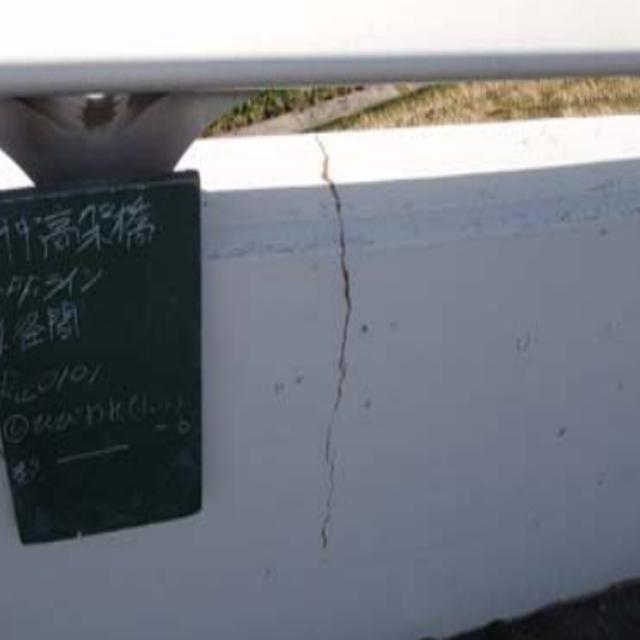crack: (290, 132, 367, 567)
